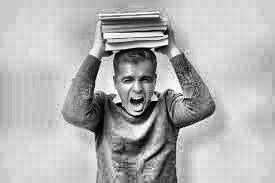angry: (105, 48, 163, 124)
